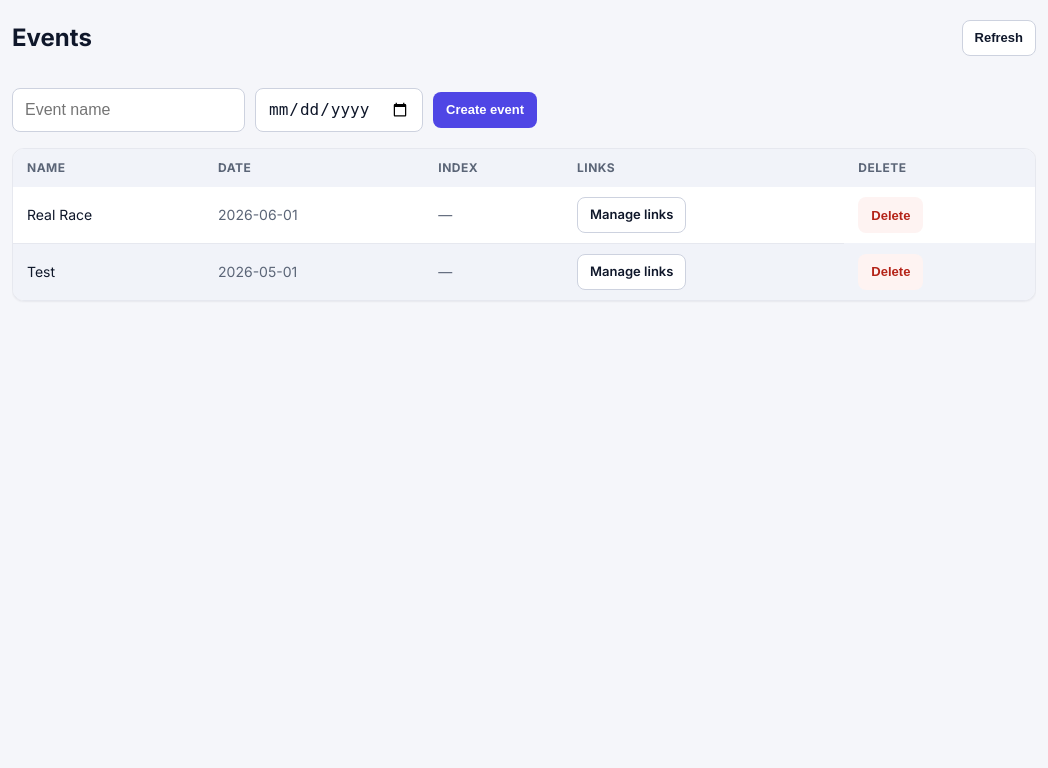
Scenario: <AdminEvents /> delete › keeps the confirm button disabled until the event name is typed
The width and height of the screenshot is (1048, 768).
Expected: the text "Real Race" is shown, [13,187,204,243]
Click the button "Delete" in the row of "Real Race" at point(891, 215), box [858,197,923,233]
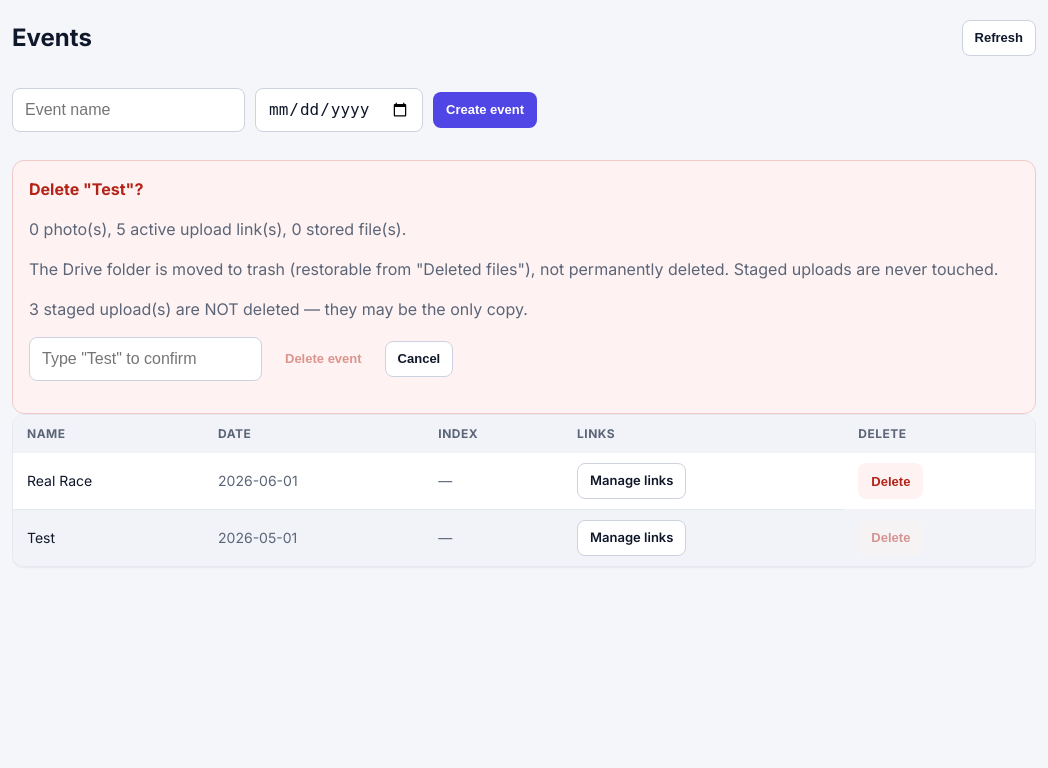
Expected: the heading "Delete \"Test\"?" is shown, [29,179,143,199]
Expected: the button "Delete event" is disabled, [272,341,375,377]
Type "Test1" into the field with placeholder "Type \"Test\" to confirm" at point(146, 359), box [29,337,262,381]
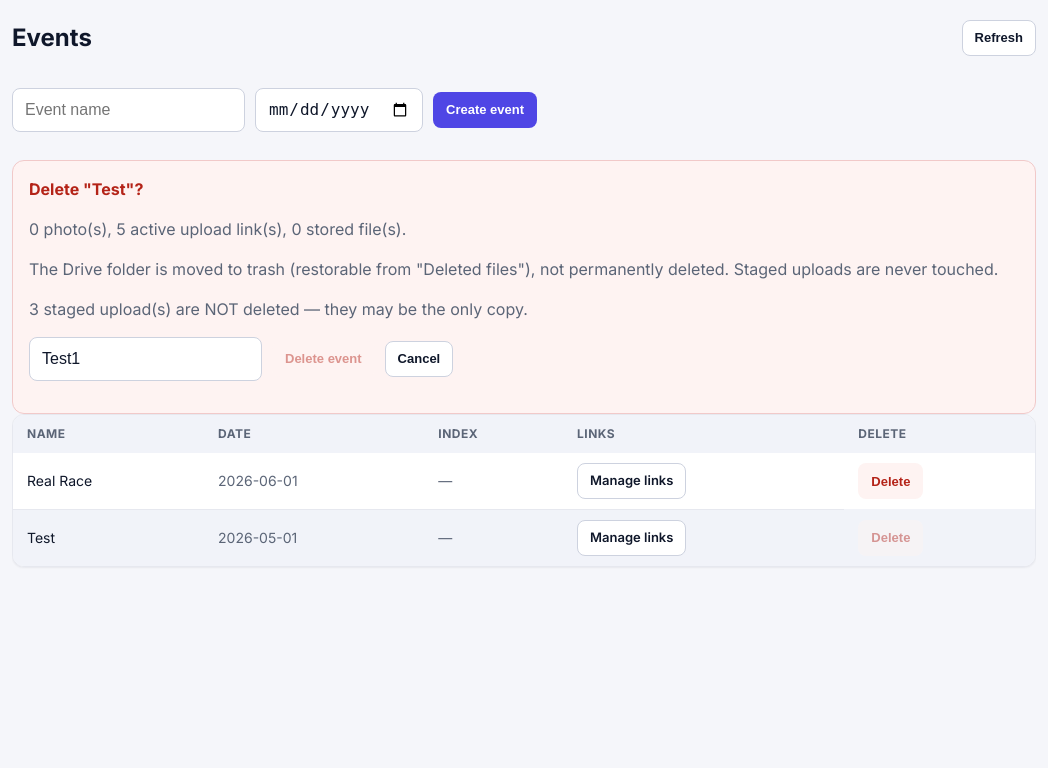
Expected: the button "Delete event" is disabled, [272,341,375,377]
Replace the text in the field with placeholder "Type \"Test\" to confirm" with "test" at point(146, 359), box [29,337,262,381]
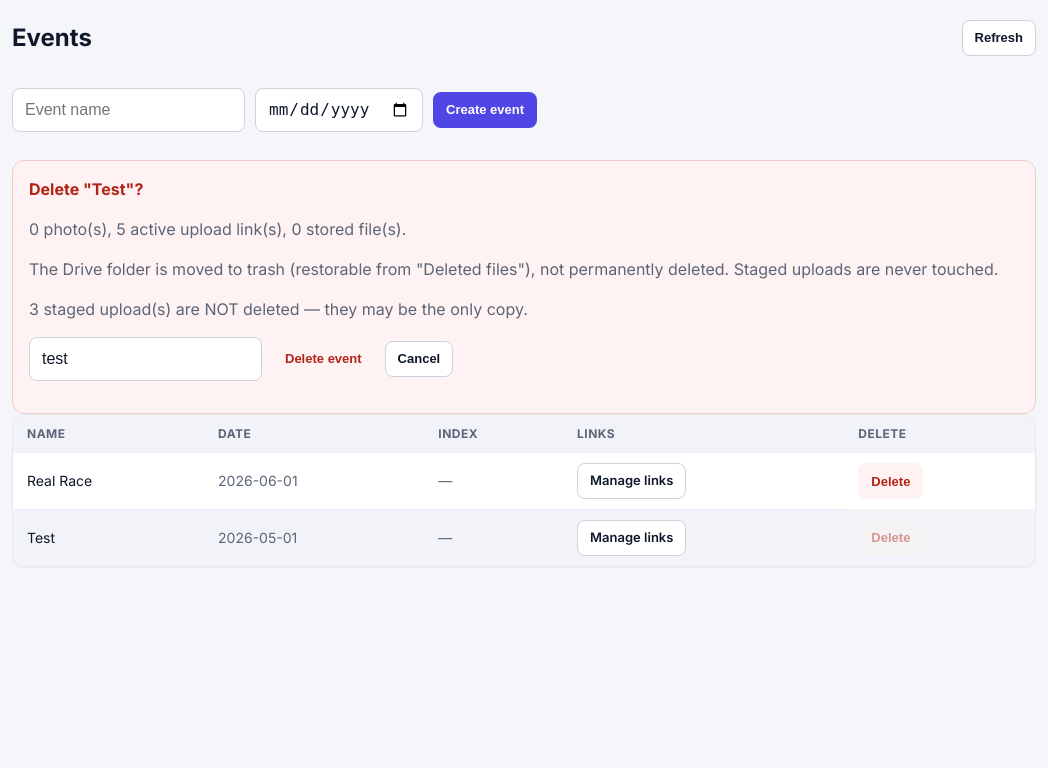
Expected: the button "Delete event" is enabled, [272,341,375,377]
